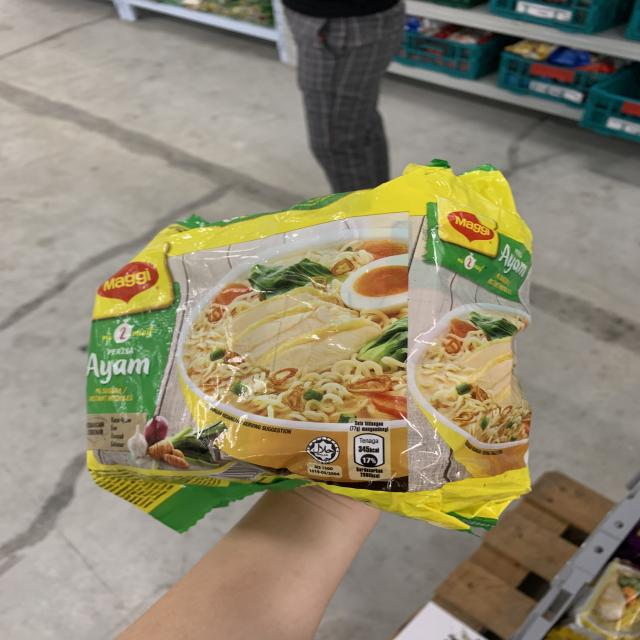object_name: (100, 219, 529, 502)
